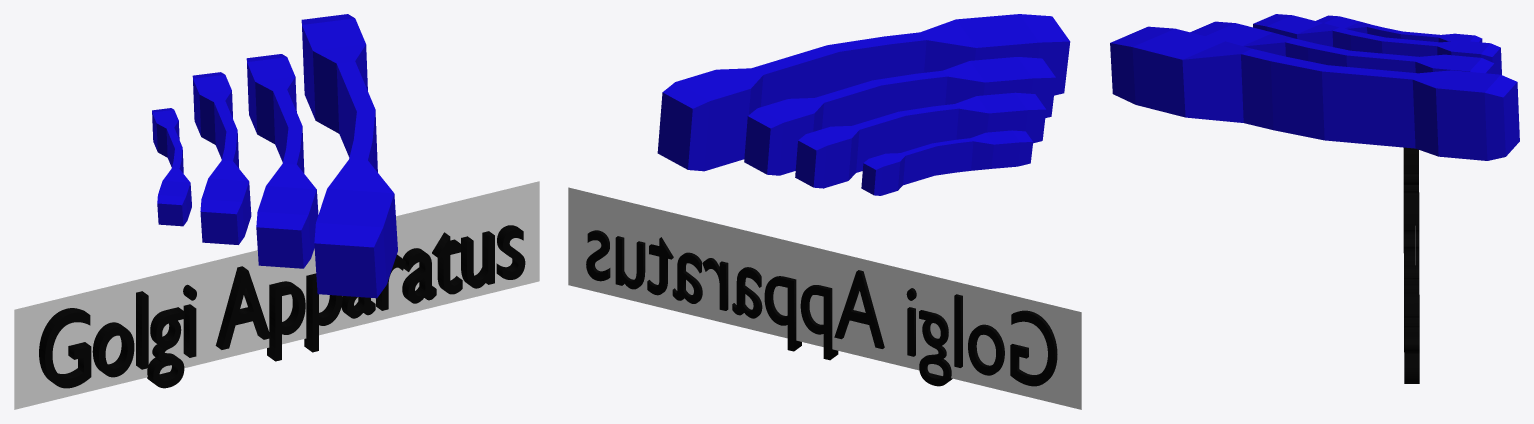
File: golgi.gltf
3 views of the same model, side by side, from view 1: azimuth 30°, elevation 25°; view 2: azimuth 150°, elevation 25°; view 3: azimuth 270°, elevation 25° (orthographic). The views are drawn at different scales.
Parts seen in each view (by area): view 1: Cube.005, Plane.029, Text.026; view 2: Cube.005, Plane.029, Text.026; view 3: Cube.005, Text.026.
Boxes of the visible parts, x1,y1,x2,y2 form: Cube.005: (152,14,397,298); Plane.029: (14,181,539,409); Text.026: (39,225,525,388); Cube.005: (657,14,1070,195); Plane.029: (568,187,1081,409); Text.026: (586,230,1057,386); Cube.005: (1110,14,1519,160); Text.026: (1403,147,1419,383).
Size of the model in its own units: 1.33 by 0.6816 by 0.9744.
